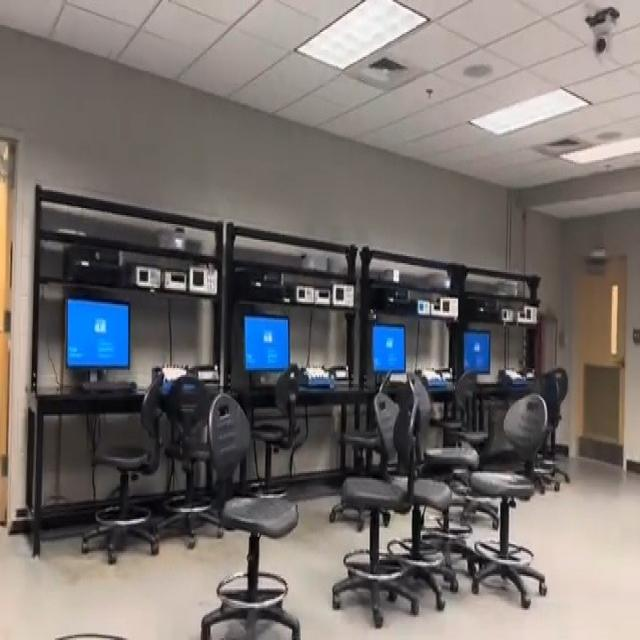drone: (194, 254, 216, 286)
